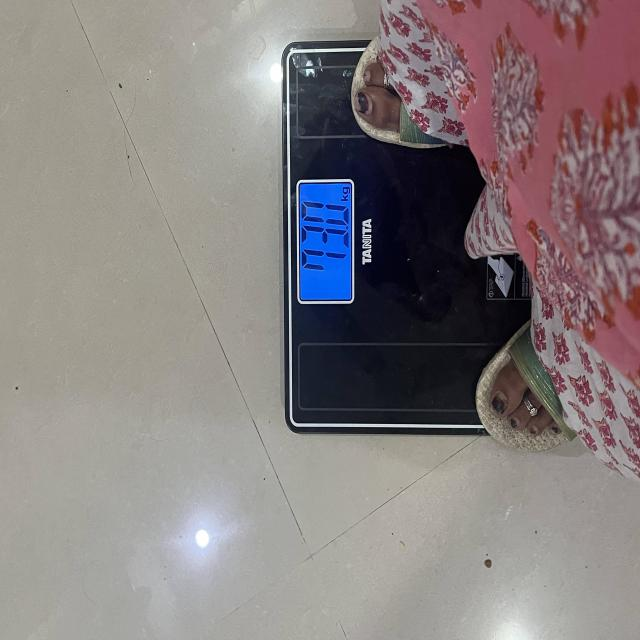ws: (280, 39, 532, 437)
